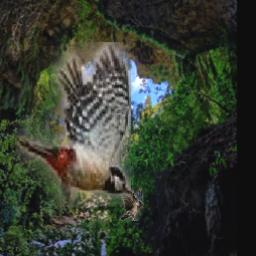Crow: (120, 185, 145, 221)
Woodpecker: (16, 42, 132, 207)
